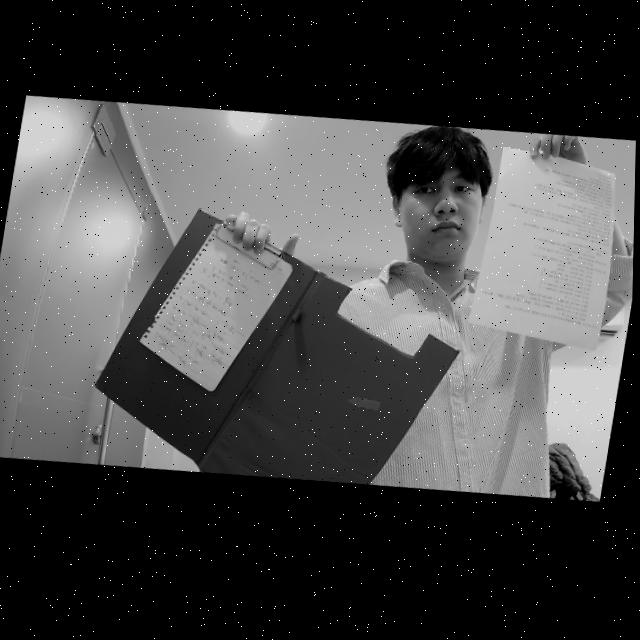document: (467, 148, 615, 352), (139, 224, 294, 392)
face: (392, 165, 493, 269)
